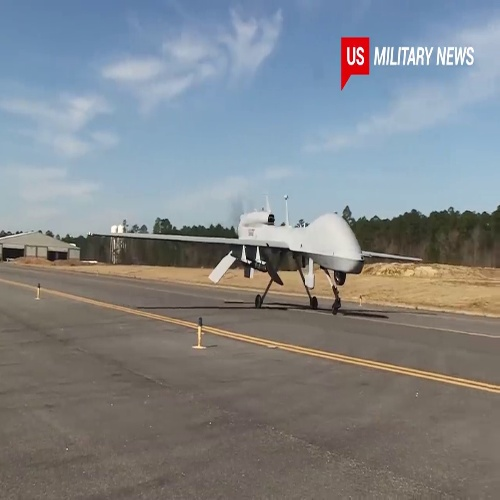uav: (85, 194, 422, 315)
